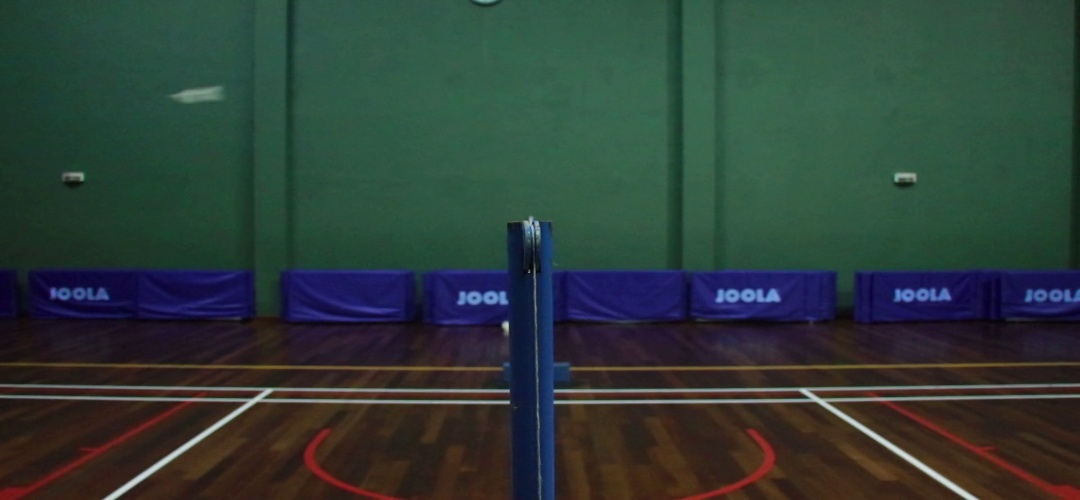c1: (240, 394, 274, 411)
c2: (796, 393, 844, 410)
net_level: (508, 222, 555, 282)
shuttle: (169, 86, 228, 108)
